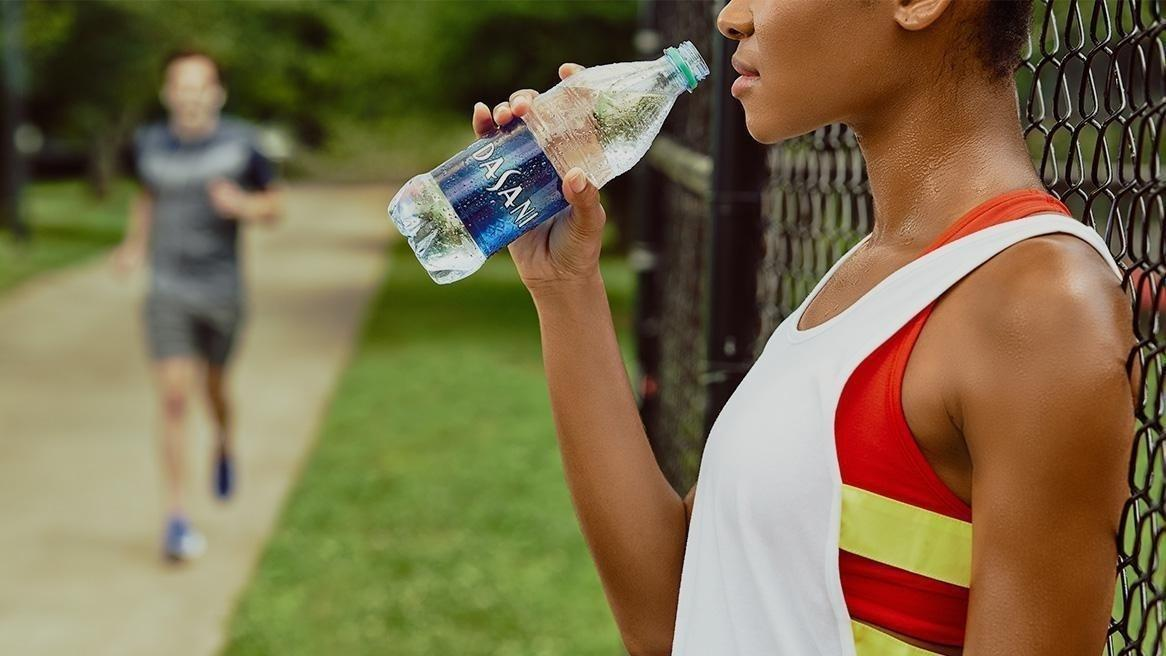bottle-plastic: (390, 42, 710, 286)
